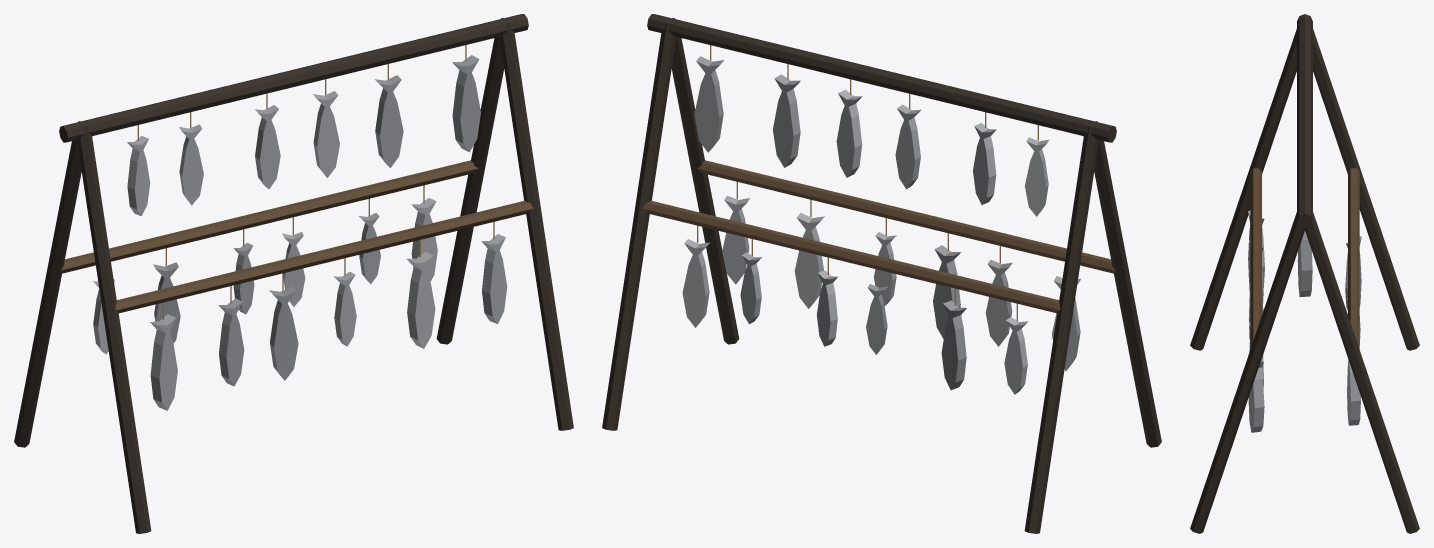
File: fish_rack.glb
The picture shows the model from 3 angles, left to right: view 1: azimuth 30°, elevation 25°; view 2: azimuth 150°, elevation 25°; view 3: azimuth 270°, elevation 25°; orthographic projection. The views are drawn at different scales.
Visible parts, largest first — view 1: fish_rack; view 2: fish_rack; view 3: fish_rack.
Part boxes in pixels (bbox=[...]): fish_rack: bbox=[14, 14, 573, 533]; fish_rack: bbox=[602, 14, 1161, 533]; fish_rack: bbox=[1190, 14, 1419, 533].
Size of what is drawn, in the model's own units: 2.4 by 1.83 by 1.17.
